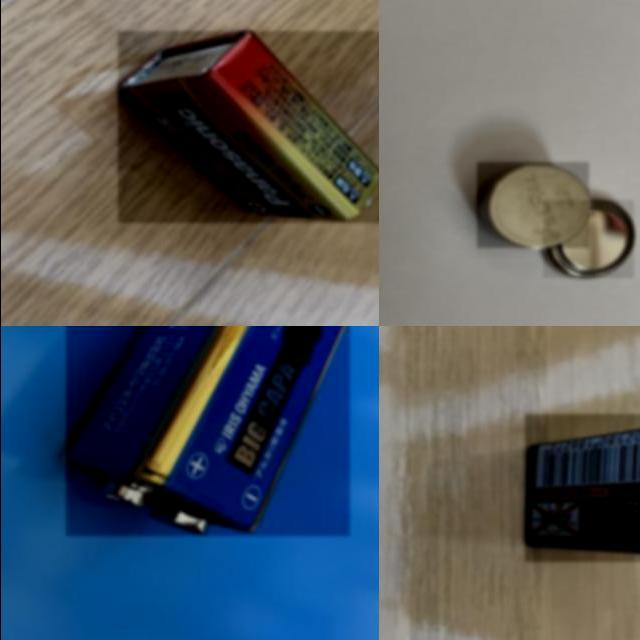9V: (65, 326, 349, 536), (117, 31, 378, 223), (525, 414, 640, 562)
